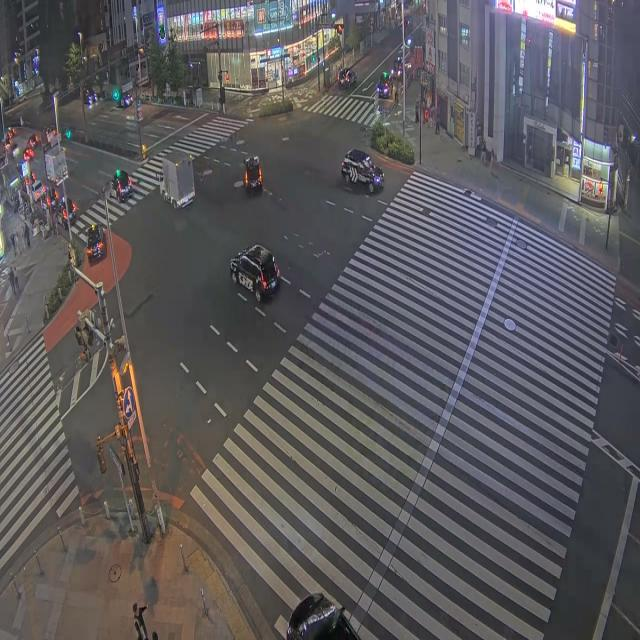car: (286, 593, 358, 639), (230, 245, 280, 302), (341, 150, 383, 193), (86, 224, 106, 262), (244, 157, 262, 195), (111, 170, 132, 202), (55, 197, 76, 227), (377, 72, 392, 98), (338, 69, 356, 88), (32, 181, 46, 201), (392, 53, 403, 78), (43, 127, 57, 144), (83, 88, 97, 105), (28, 134, 41, 149), (119, 94, 132, 108), (23, 146, 34, 160), (4, 135, 12, 150), (11, 143, 19, 158)
truck: (160, 152, 194, 207), (45, 147, 67, 184)
